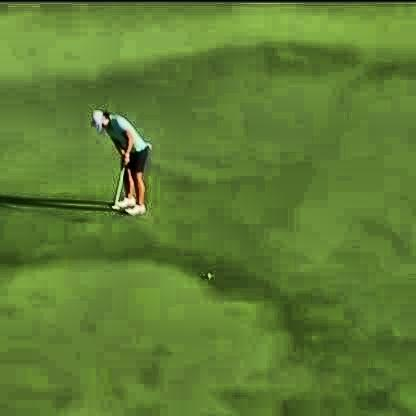golfball: (204, 268, 209, 275)
